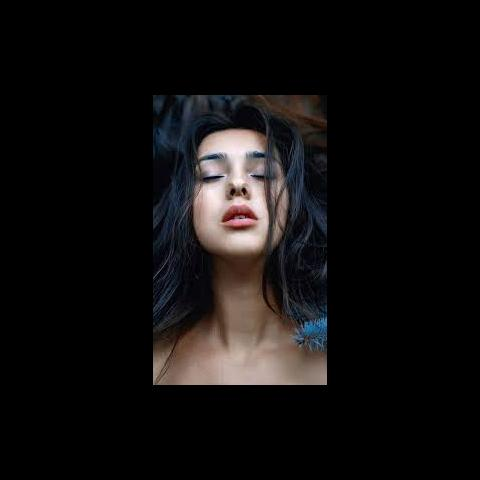closed: (193, 152, 284, 190)
